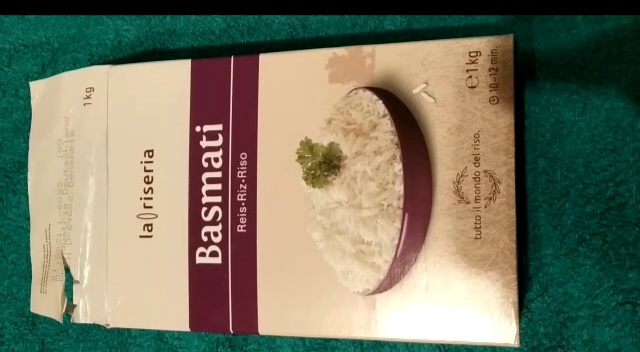basmati_rice: (20, 31, 525, 349)
